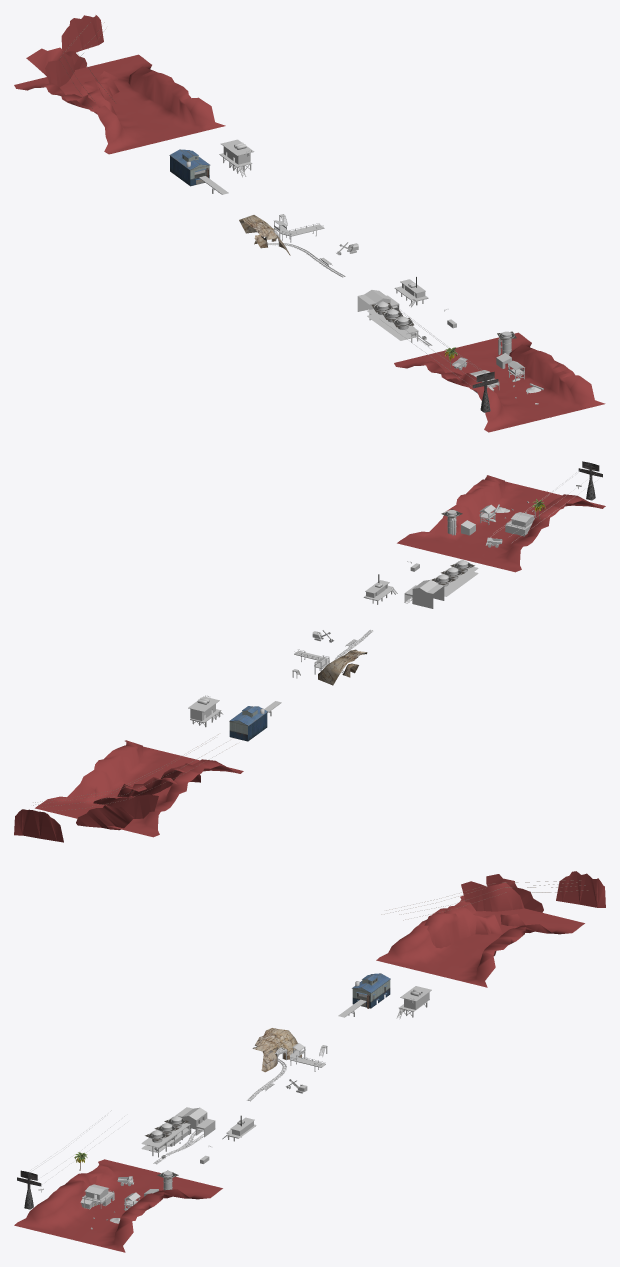
The model's file is MapP05_Mines.fbx.
The picture shows the model from 3 angles, top to bottom: view 1: azimuth 30°, elevation 25°; view 2: azimuth 150°, elevation 25°; view 3: azimuth 330°, elevation 25°; orthographic projection. The views are drawn at different scales.
Parts seen in each view (by area): view 1: TerrainS5_P05, Terrain_P05, Mountain_SP05, House3_P05, Mount_4, House5_P05, House6_P05, Mountain_P05, Mount_2, Mount_3; view 2: TerrainS5_P05, Terrain_P05, Mountain_SP05, House3_P05, Mount_4, Mount_2, House5_P05, Mountain_P05, Mount_3, House6_P05, House1_P05; view 3: TerrainS5_P05, Terrain_P05, Mountain_SP05, House3_P05, Mount_3, Mount_4, Mountain_P05, House5_P05, House6_P05, Mount_2, House1_P05.
Part boxes in pixels (x1,y1,x2,y2): TerrainS5_P05: (14,54,225,154); Terrain_P05: (394,332,605,432); Mountain_SP05: (415,344,594,429); House3_P05: (357,290,418,342); Mount_4: (61,15,103,52); House5_P05: (169,149,210,186); House6_P05: (219,139,254,177); Mountain_P05: (239,215,290,255); Mount_2: (26,47,86,76); Mount_3: (45,51,74,94); TerrainS5_P05: (35,740,243,837); Terrain_P05: (397,481,605,572); Mountain_SP05: (429,475,601,564); House3_P05: (404,559,478,608); Mount_4: (14,809,63,842); Mount_2: (76,805,133,830); House5_P05: (229,706,267,741); Mountain_P05: (318,649,367,685); Mount_3: (107,794,158,818); House6_P05: (188,696,223,727); House1_P05: (505,512,534,536); TerrainS5_P05: (376,895,584,987); Terrain_P05: (14,1159,222,1252); Mountain_SP05: (17,1165,190,1245); House3_P05: (141,1107,215,1157); Mount_3: (461,881,524,911); Mount_4: (556,871,605,907); Mountain_P05: (252,1028,301,1072); House5_P05: (352,973,390,1008); House6_P05: (396,986,431,1019); Mount_2: (486,874,543,912); House1_P05: (80,1184,114,1209).
Size of the model in its own units: 7741 by 3174 by 51548.
